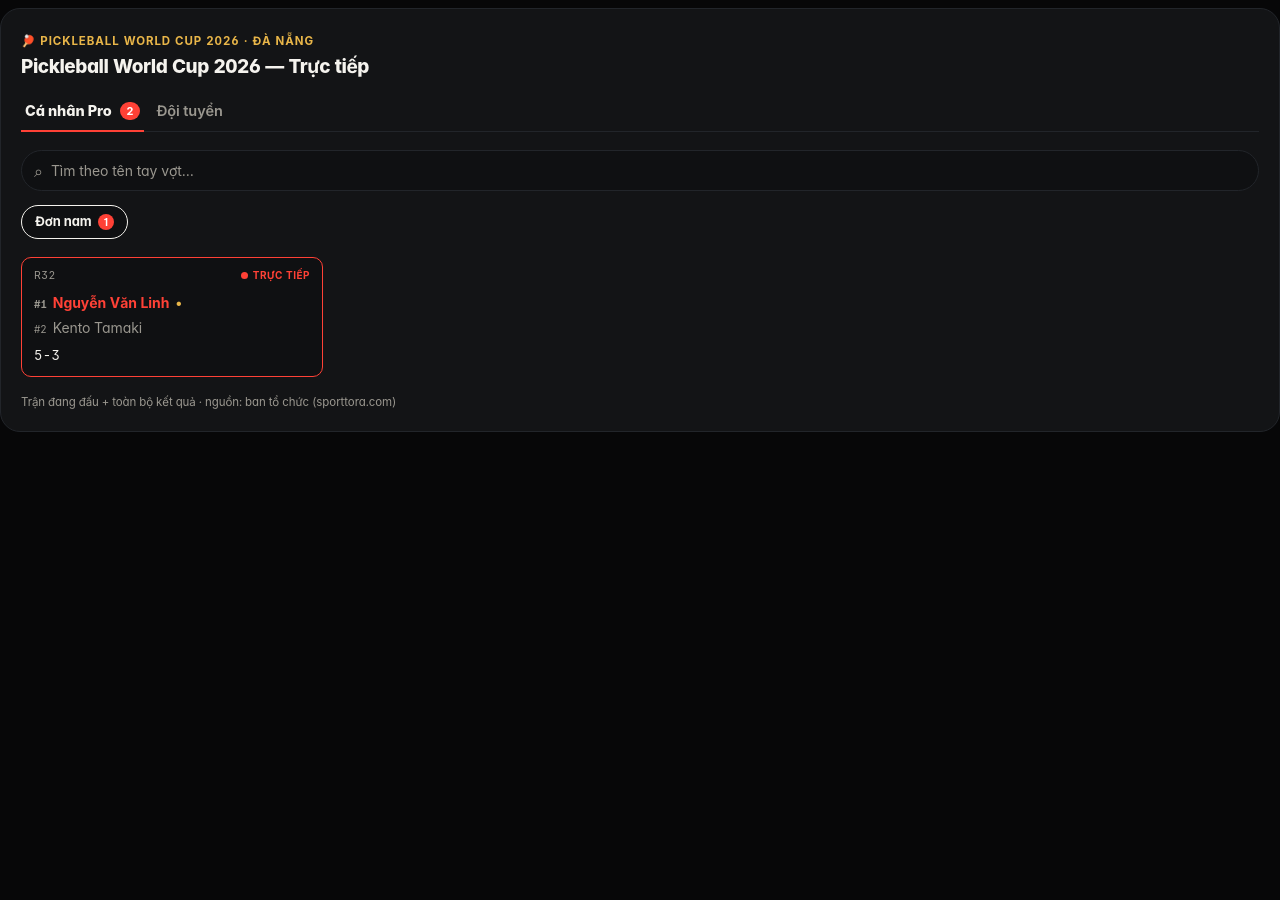
Test case: WorldCupLiveBoard › switches to the team tab on click
Click the tab "Đội tuyển" at (190, 112), box [152,92,227,132]
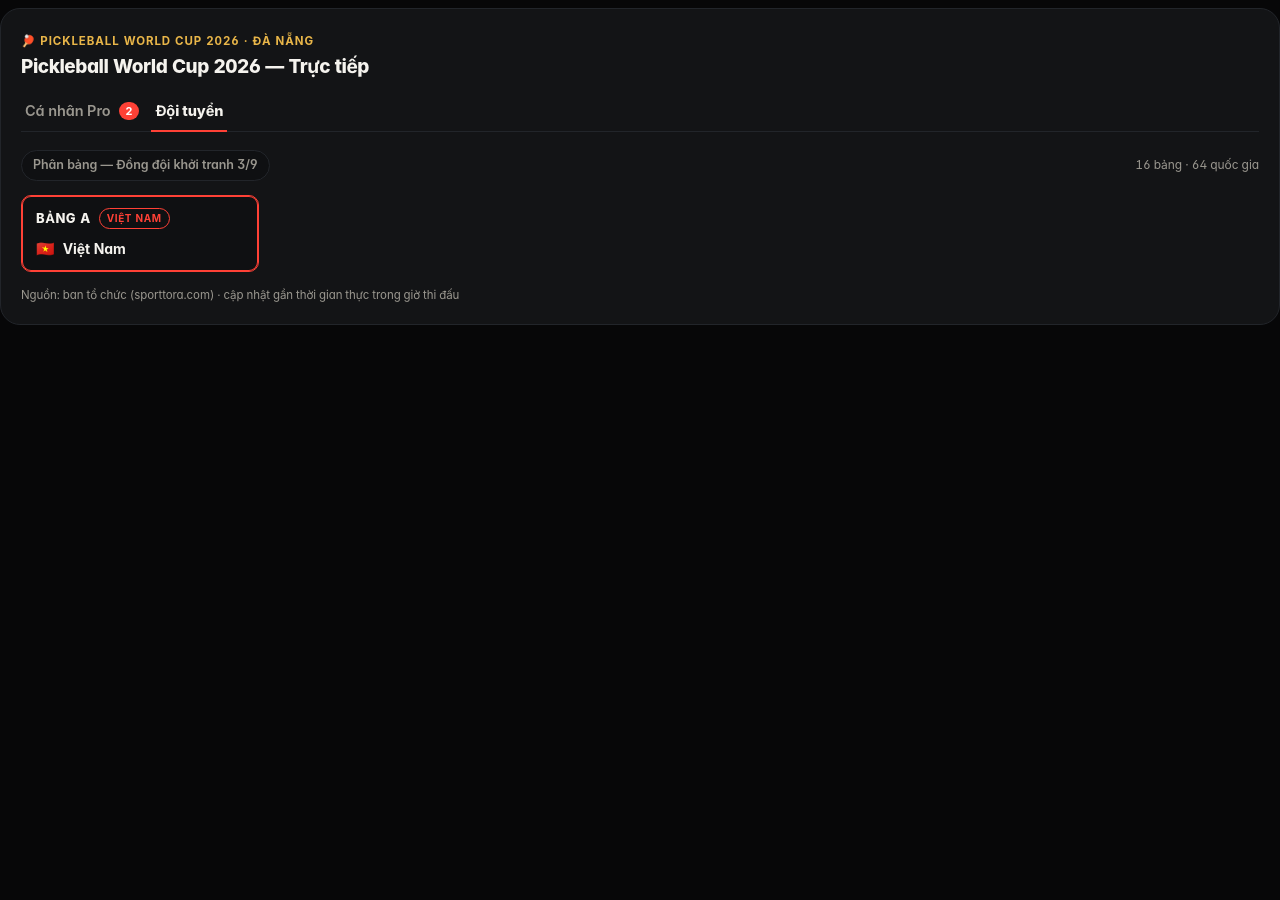
Now the text "Bảng A" is shown, box [36,208,91,228]
